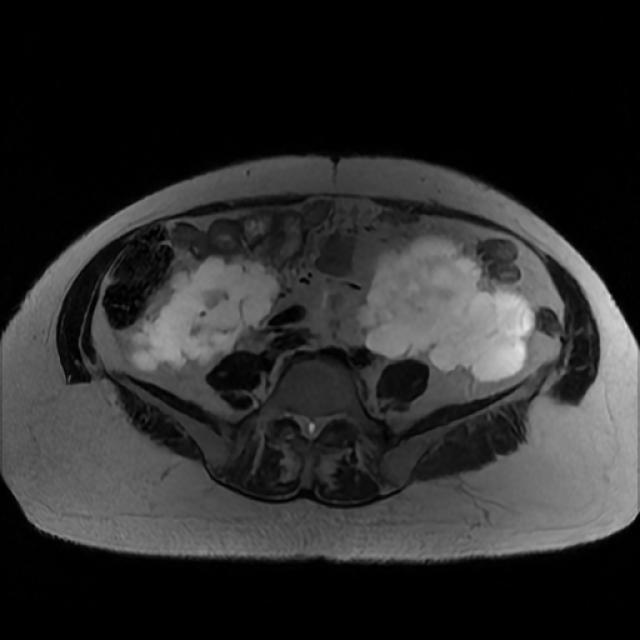sag: (133, 255, 283, 372)
sol: (361, 237, 538, 380)
